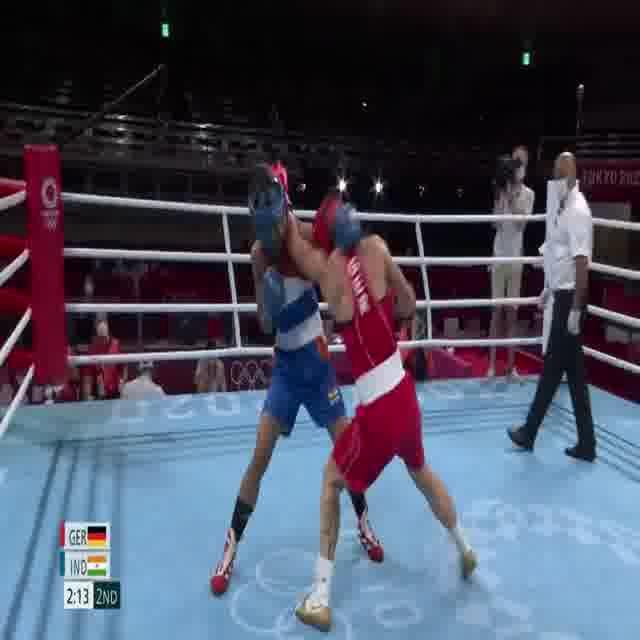blue-player: (209, 160, 388, 598)
red-player: (271, 150, 478, 638)
referee: (504, 145, 600, 465)
